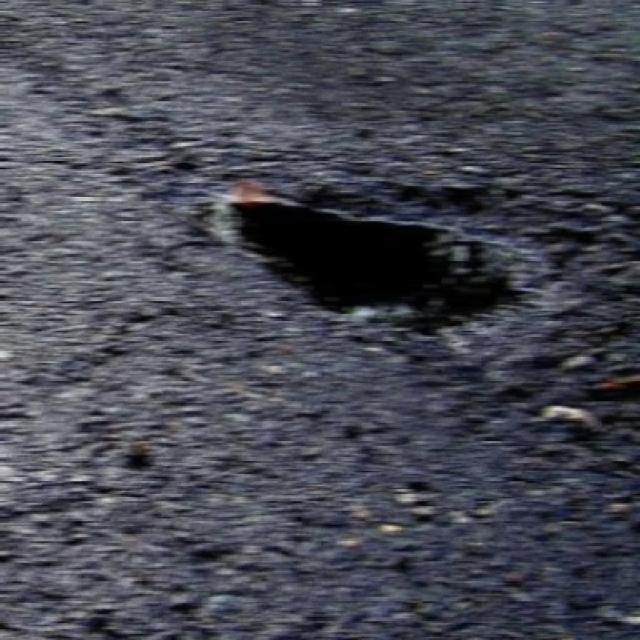Pothole: (204, 162, 555, 371)
